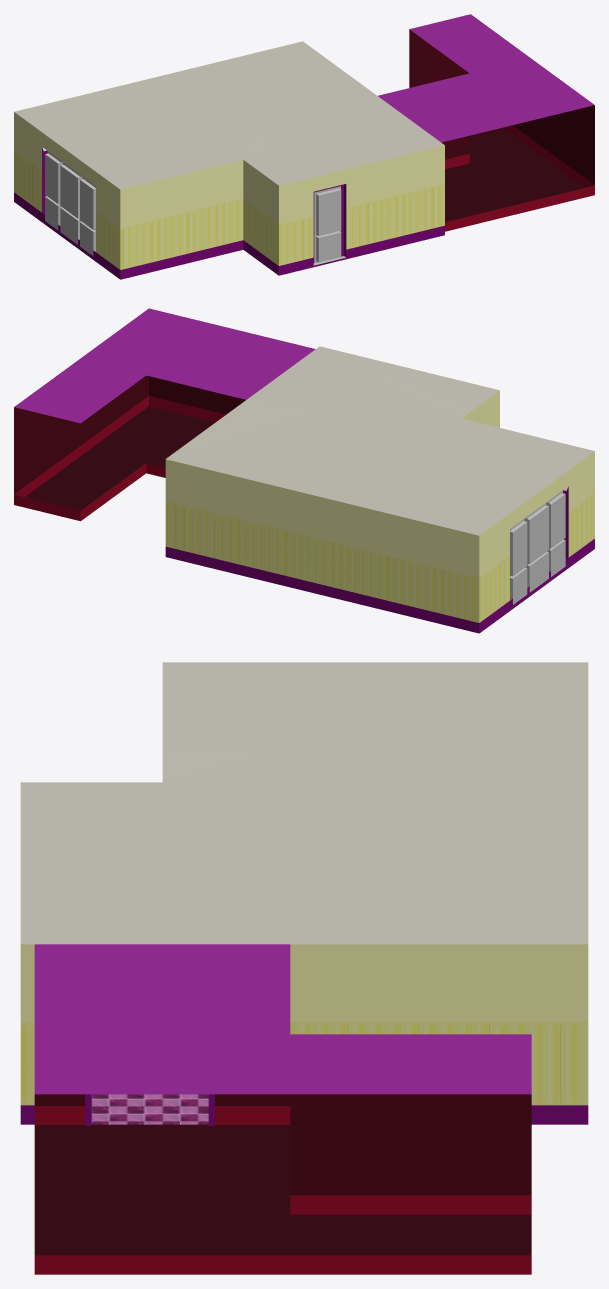
File: ENVI_Kitchen.obj
3 renders of one model, top to bottom at view 1: azimuth 30°, elevation 25°; view 2: azimuth 150°, elevation 25°; view 3: azimuth 270°, elevation 25°, orthographic. The views are drawn at different scales.
Visible parts, largest first — view 1: ENVI_Kitchen; view 2: ENVI_Kitchen; view 3: ENVI_Kitchen.
Boxes of the visible parts, <box> form: ENVI_Kitchen: <box>14,14,594,279</box>; ENVI_Kitchen: <box>14,308,594,633</box>; ENVI_Kitchen: <box>20,662,588,1274</box>.
Size of the model in its own units: 14.4 by 2.8 by 8.
Materials: 12 (5 with a texture image).
